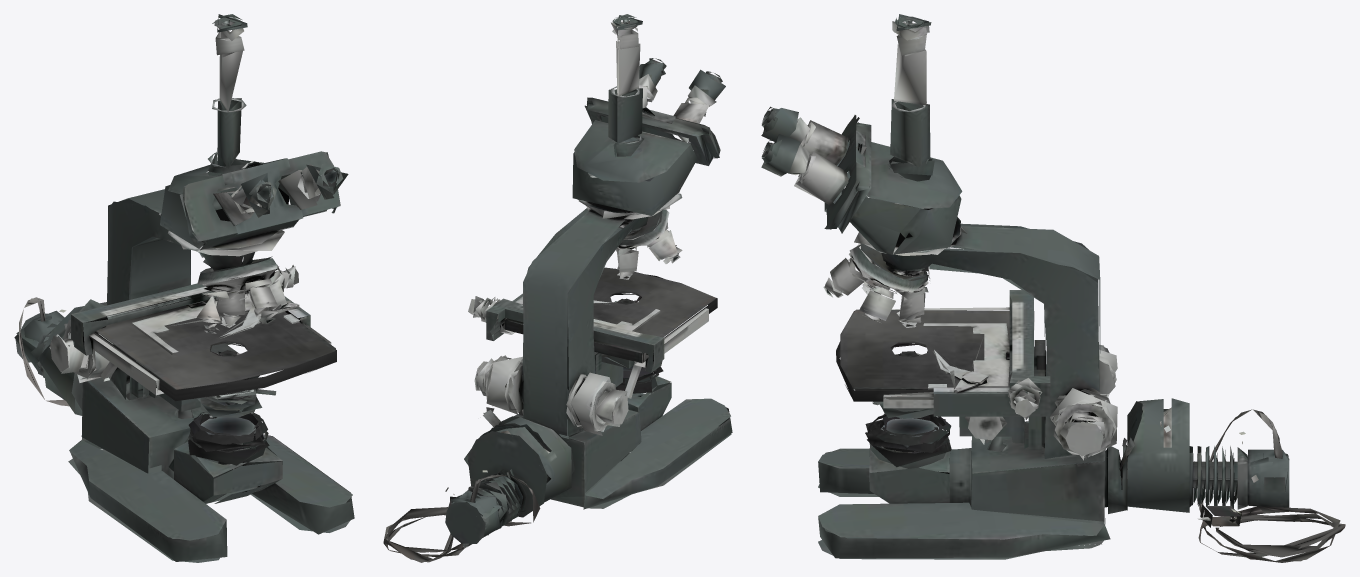
The model's file is industrial_microscope.glb.
3 views of the same model, side by side, from view 1: azimuth 30°, elevation 25°; view 2: azimuth 150°, elevation 25°; view 3: azimuth 270°, elevation 25° (orthographic). The views are drawn at different scales.
Visible parts, largest first — view 1: industrial_microscope; view 2: industrial_microscope; view 3: industrial_microscope.
Part boxes in pixels (x1=…): industrial_microscope: x1=14, y1=14, x2=354, y2=562; industrial_microscope: x1=383, y1=14, x2=732, y2=562; industrial_microscope: x1=761, y1=14, x2=1345, y2=562.
Size of the model in its own units: 0.2145 by 0.464 by 0.4943.
1 material, 1 textured.
